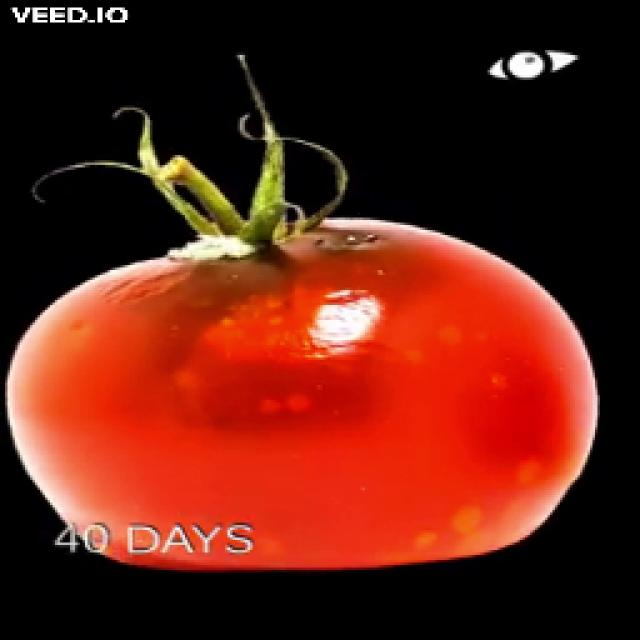overripe tomato: (0, 150, 613, 580)
